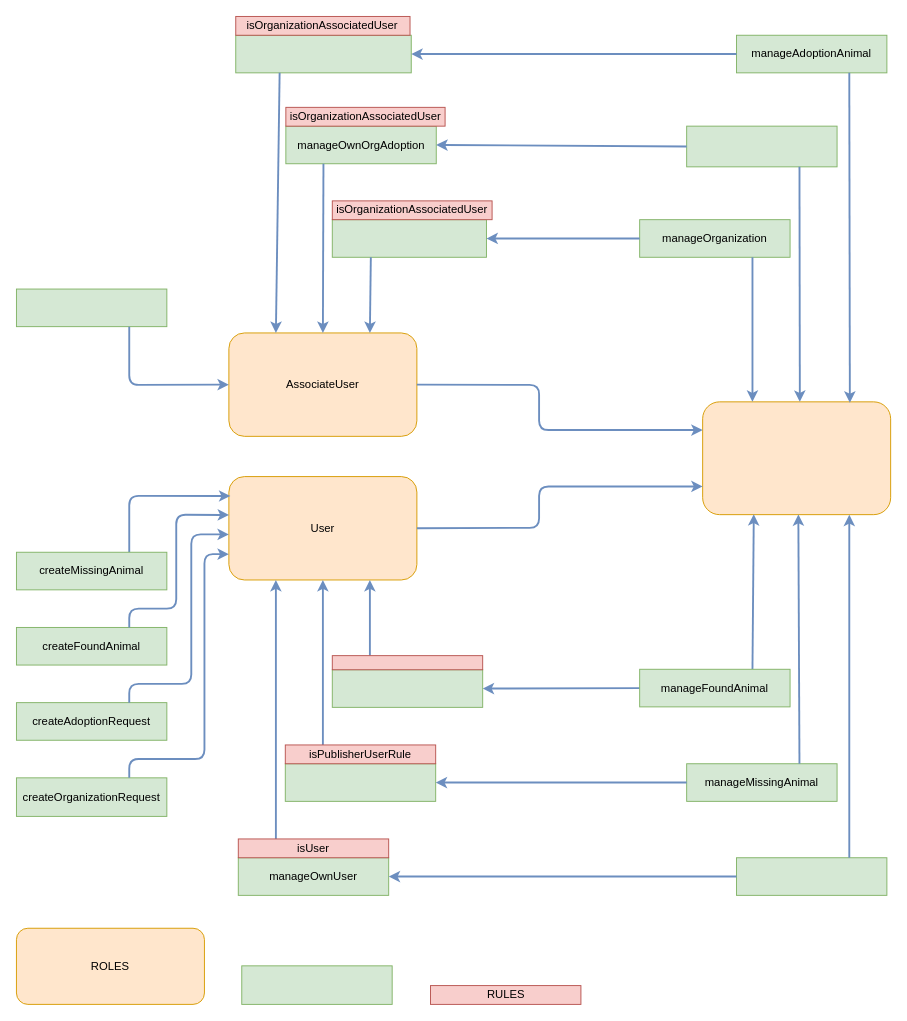
The diagram is 907 pixels wide and 1021 high, and some of its shapes have lost their labels. Here are the shapes that lost their labels. From the top down, the centre of each, then its label:
pixel 323 53: manageOwnOrgAdoptionAnimal
pixel 761 146: manageAdoption
pixel 408 238: manageOwnOrgOrganization
pixel 91 307: createAdoptionAnimal
pixel 796 458: Admin
pixel 407 662: isPublisherUser
pixel 407 688: manageOwnFoundAnimal
pixel 360 782: manageOwnMissingAnimal
pixel 811 876: manageUser
pixel 316 984: PERMISSIONS
